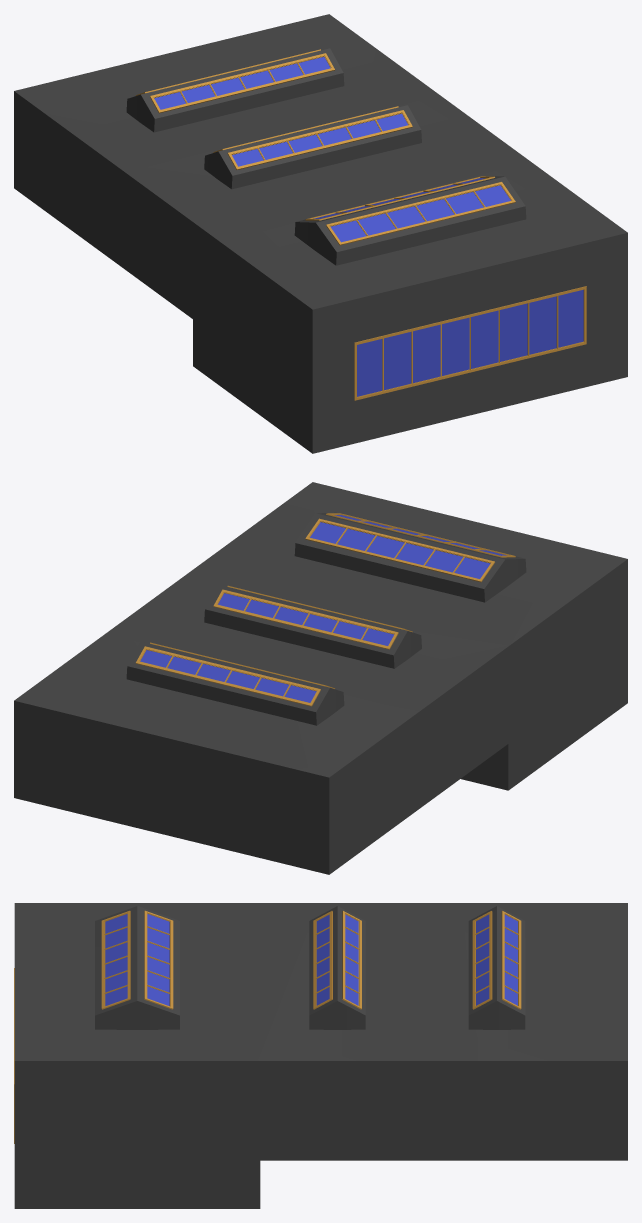
The model's file is Art Gallery.fbx.
3 views of the same model, one above another, from view 1: azimuth 30°, elevation 25°; view 2: azimuth 150°, elevation 25°; view 3: azimuth 270°, elevation 25° (orthographic). The views are drawn at different scales.
Parts seen in each view (by area): view 1: Layer, Glass2, Glass1; view 2: Layer, Glass1; view 3: Layer, Glass1.
Part boxes in pixels (x1,y1,x2,y2): Layer: [14, 14, 627, 453]; Glass2: [354, 286, 586, 400]; Glass1: [136, 49, 515, 245]; Layer: [14, 482, 627, 874]; Glass1: [136, 513, 515, 706]; Layer: [14, 903, 627, 1208]; Glass1: [101, 910, 521, 1009].
Bounding box in the file's own units: 1406 × 733 × 2311.
